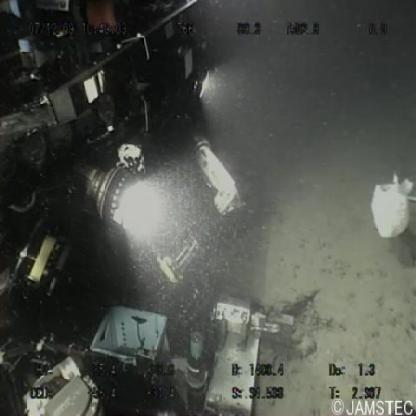Rov: (1, 1, 328, 414)
Rác: (365, 171, 416, 242)
